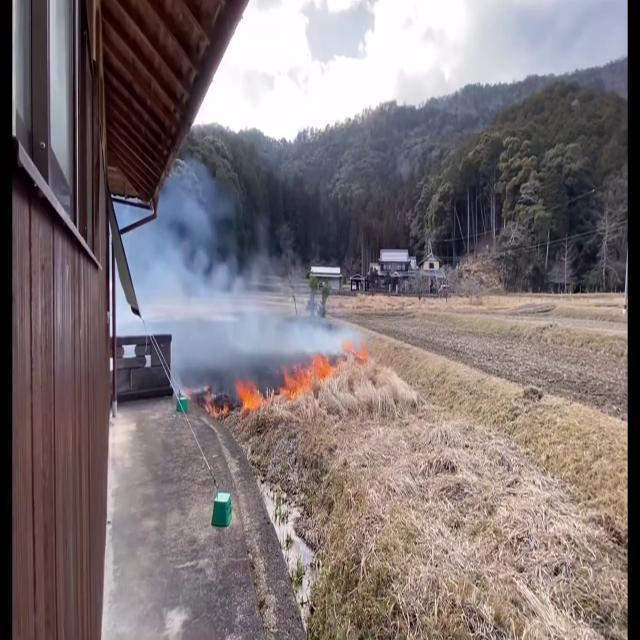Fire: (286, 342, 335, 402), (232, 370, 271, 420)
Smoke: (138, 119, 332, 379)
